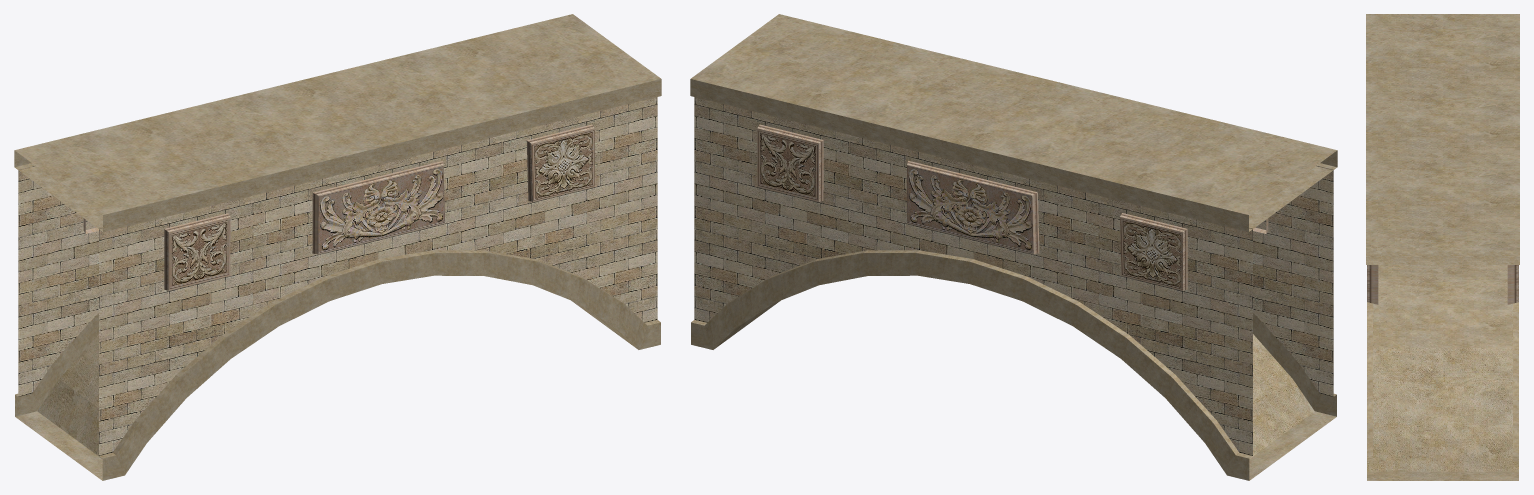
Rendered from thm_nboo_imprv_archway_narrow_s02_l0.fbx.
3 views of the same model, side by side, from view 1: azimuth 30°, elevation 25°; view 2: azimuth 150°, elevation 25°; view 3: azimuth 270°, elevation 25° (orthographic). The views are drawn at different scales.
Visible parts, largest first — view 1: mesh_node; view 2: mesh_node; view 3: mesh_node.
Part boxes in pixels (x1=…): mesh_node: x1=14, y1=14, x2=661, y2=480; mesh_node: x1=690, y1=14, x2=1337, y2=480; mesh_node: x1=1366, y1=14, x2=1519, y2=480.
Size of the model in its own units: 4 by 1.82 by 1.1.
